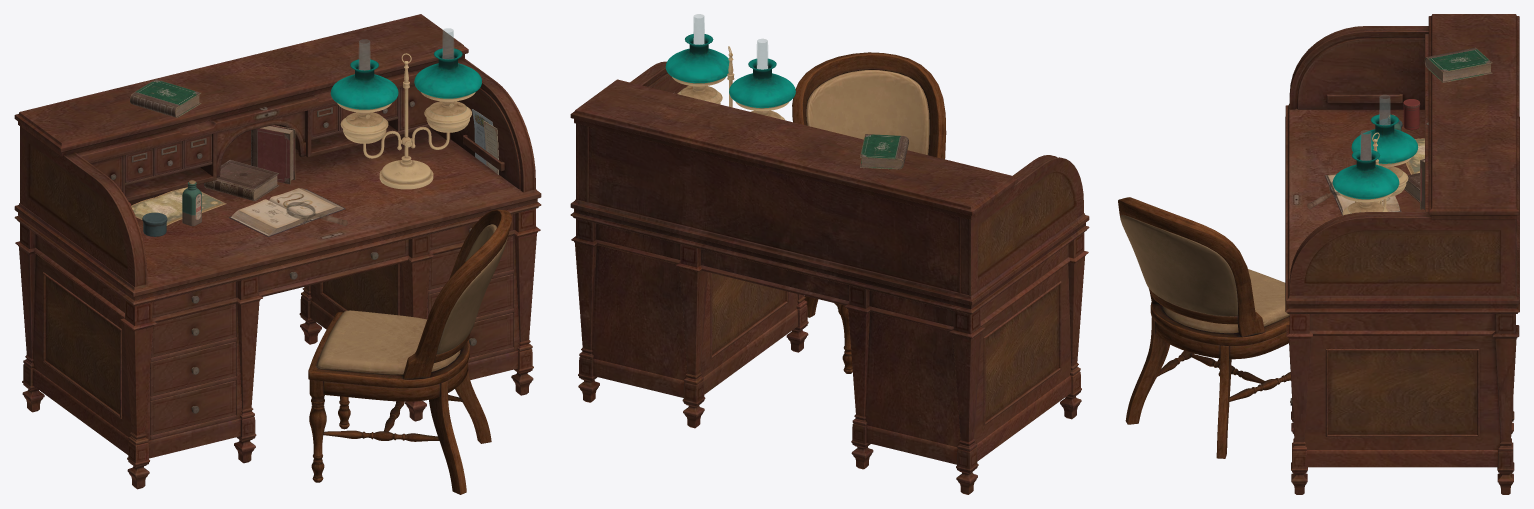
File: antique_desk.glb
The picture shows the model from 3 angles, left to right: view 1: azimuth 30°, elevation 25°; view 2: azimuth 150°, elevation 25°; view 3: azimuth 270°, elevation 25°; orthographic projection.
Visible parts, largest first — view 1: Table, Chair, Lamp, Open_book, Book_3, Book_1, Book_2, Note_3, Bottle; view 2: Table, Chair, Lamp, Book_2; view 3: Table, Chair, Lamp, Book_2, Open_book, Jar_1.
Part boxes in pixels (box(x1,y1,x2,y2)): Table: box(14, 14, 541, 489); Chair: box(308, 209, 511, 494); Lamp: box(330, 28, 481, 189); Open_book: box(229, 188, 345, 236); Book_3: box(251, 125, 295, 184); Book_1: box(204, 160, 279, 201); Book_2: box(130, 79, 201, 117); Note_3: box(131, 187, 226, 225); Bottle: box(182, 180, 201, 226); Table: box(570, 61, 1089, 494); Chair: box(792, 52, 946, 373); Lamp: box(665, 14, 795, 120); Book_2: box(860, 134, 908, 169); Table: box(1285, 14, 1519, 494); Chair: box(1118, 197, 1290, 458); Lamp: box(1332, 95, 1418, 215); Book_2: box(1424, 47, 1492, 82); Open_book: box(1324, 174, 1401, 215); Jar_1: box(1403, 99, 1420, 130).
Size of the model in its own units: 1.62 by 1.32 by 1.41.
15 materials, 15 textured.
